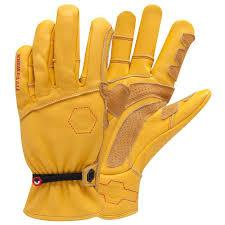gloves: (102, 4, 212, 221), (13, 4, 103, 221)
